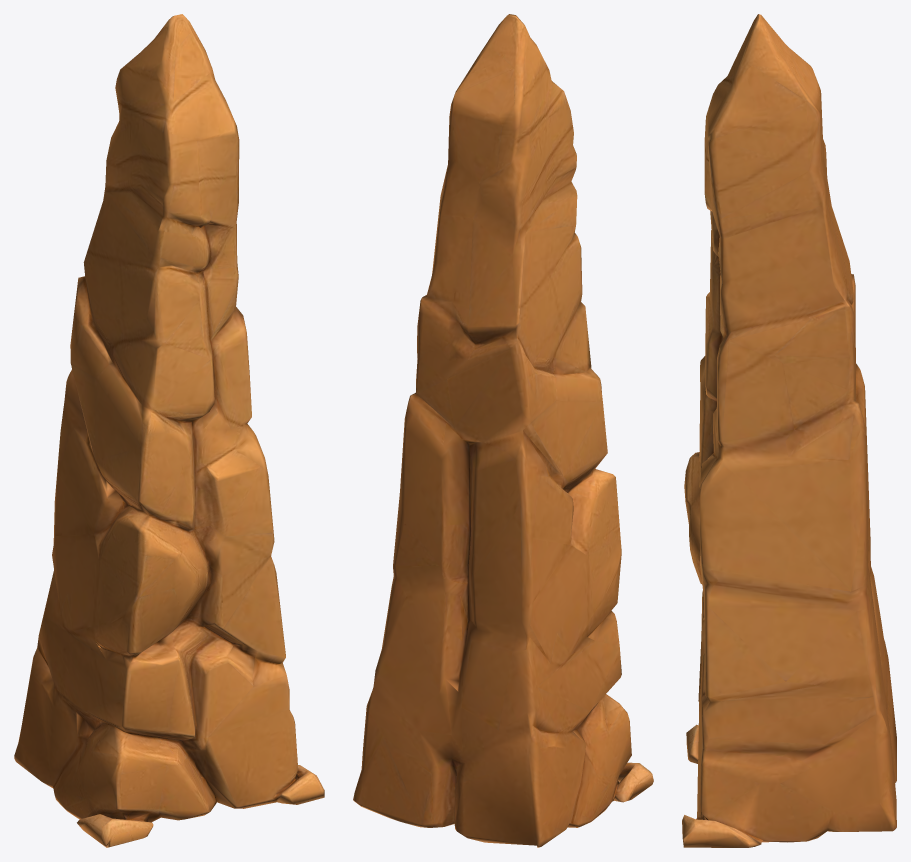
Rendered from rock-spire.lod.glb.
3 views of the same model, side by side, from view 1: azimuth 30°, elevation 25°; view 2: azimuth 150°, elevation 25°; view 3: azimuth 270°, elevation 25° (orthographic).
Size of the model in its own units: 0.5544 by 1.9 by 0.472.
1 material, 1 textured.
